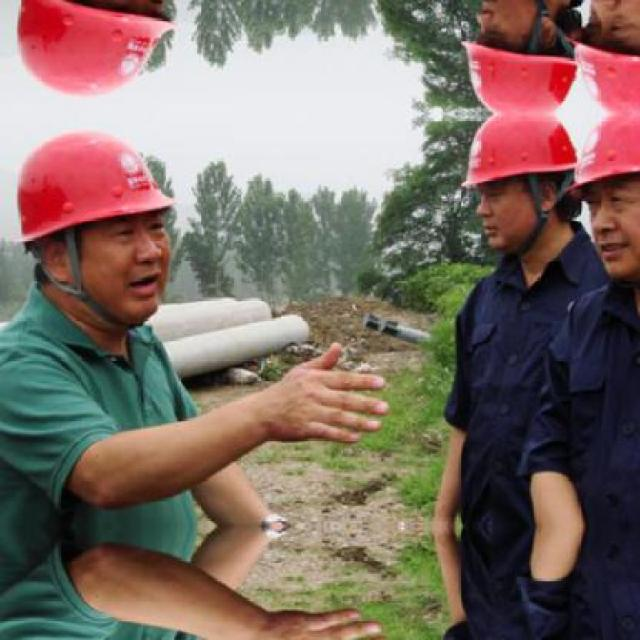helmet: (4, 120, 199, 332), (3, 0, 200, 106), (464, 112, 594, 260), (463, 0, 595, 114), (564, 112, 636, 272), (563, 0, 637, 114)
